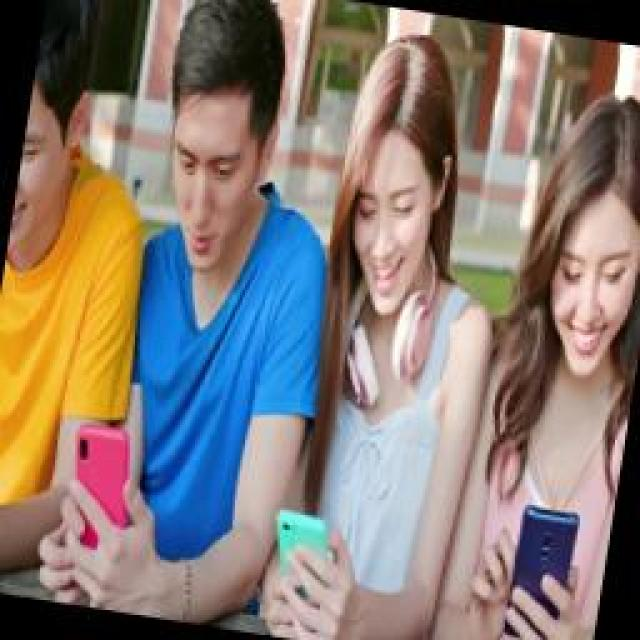phone: (25, 0, 373, 635), (248, 22, 538, 640), (420, 75, 640, 640)
